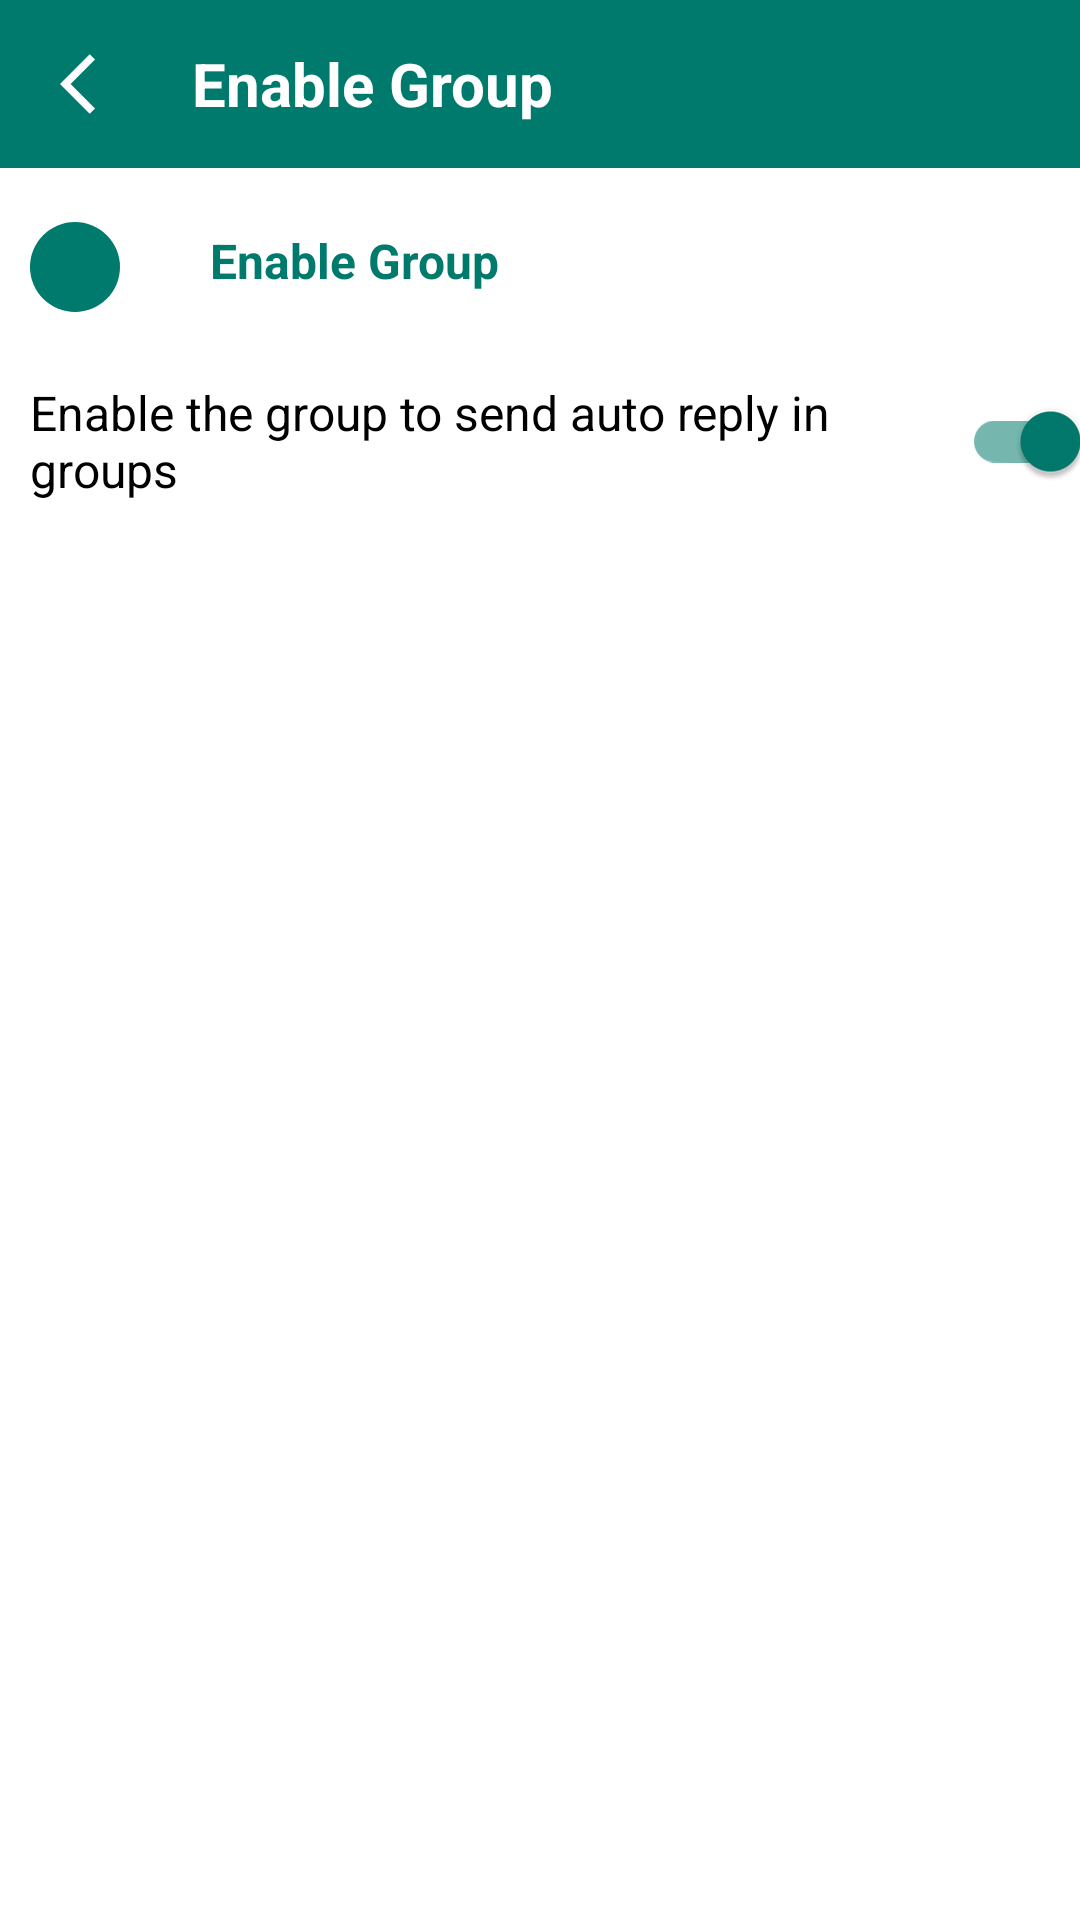

Named icons in this screenshot (1080px×1920px) and their centers, point (x, y):
arrow back: point (77, 84)
